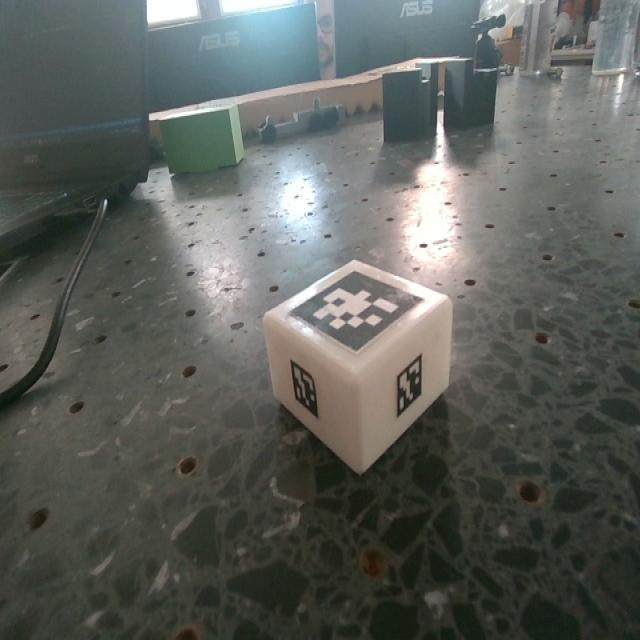Cube: (263, 256, 454, 477)
